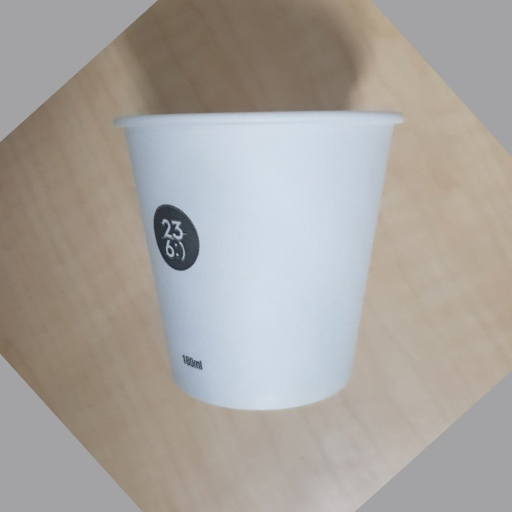Paper_1: (114, 106, 409, 411)
